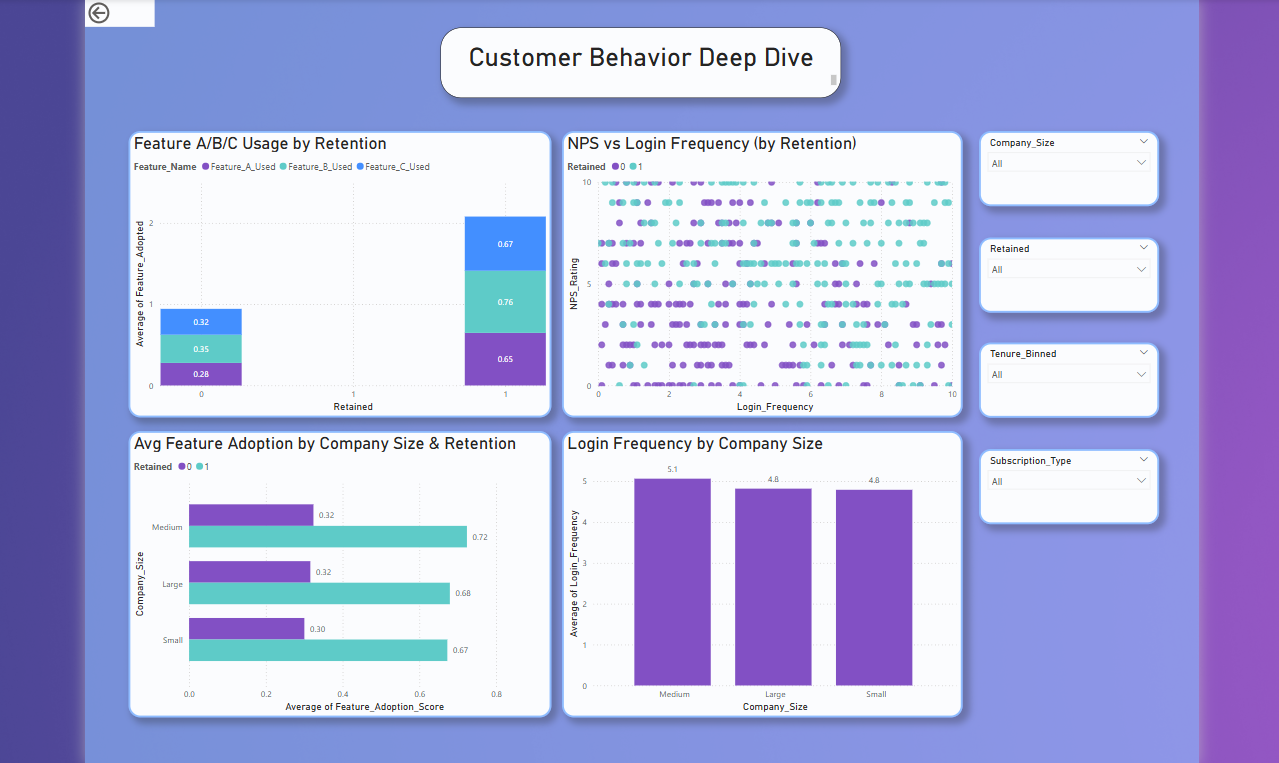

The page's visual inventory and layout, read from the dashboard file:
{"tool":"powerbi","page":{"name":"Page 2","canvas":[1600,1100],"ordinal":1},"visuals":[{"type":"clusteredBarChart","title":"Avg Feature Adoption by Company Size & Retention","fields":{"Category":["Feature_Usage_Retention_Dataset.Company_Size"],"Series":["Feature_Usage_Retention_Dataset.Retained"],"Y":["Avg(Feature_Usage_Retention_Dataset.Feature_Adoption_Score)"]},"box":[62.5,620.4,607.5,411.4],"z":0},{"type":"columnChart","title":" Feature A/B/C Usage by Retention","fields":{"Y":["Avg(Feature_Usage_Retention_Dataset.Feature_Adopted)"],"Category":["Feature_Usage_Retention_Dataset.Retained"],"Series":["Feature_Usage_Retention_Dataset.Feature_Name"]},"box":[62.5,189.6,607.5,411.4],"z":1000},{"type":"scatterChart","title":"NPS vs Login Frequency (by Retention)","fields":{"X":["Feature_Usage_Retention_Dataset.Login_Frequency"],"Y":["Feature_Usage_Retention_Dataset.NPS_Rating"],"Series":["Feature_Usage_Retention_Dataset.Retained"]},"box":[685,189.6,575.1,411.4],"z":2000},{"type":"clusteredColumnChart","title":"Login Frequency by Company Size","fields":{"Category":["Feature_Usage_Retention_Dataset.Company_Size"],"Y":["Avg(Feature_Usage_Retention_Dataset.Login_Frequency)"]},"box":[685,620.4,575.1,411.4],"z":3000},{"type":"slicer","title":"NPS vs Login Frequency (by Retention)","fields":{"Values":["Feature_Usage_Retention_Dataset.Company_Size"]},"box":[1283.8,189.6,258.5,107.7],"z":4000},{"type":"slicer","title":"NPS vs Login Frequency (by Retention)","fields":{"Values":["Feature_Usage_Retention_Dataset.Retained"]},"box":[1283.8,342.5,258.5,107.7],"z":5000},{"type":"slicer","title":"NPS vs Login Frequency (by Retention)","fields":{"Values":["Feature_Usage_Retention_Dataset.Tenure_Binned"]},"box":[1283.8,493.3,258.5,107.7],"z":6000},{"type":"actionButton","box":[0,0,100,40],"z":7000},{"type":"slicer","title":"NPS vs Login Frequency (by Retention)","fields":{"Values":["Feature_Usage_Retention_Dataset.Subscription_Type"]},"box":[1283.8,646.2,258.5,107.7],"z":8000},{"type":"textbox","title":"Customer Behavior Deep Dive","box":[510.5,40.9,575.1,101.2],"z":9000}]}

Visuals, with their boxes on the page's 1600x1100 design canvas (x1, y1, x2, y2). These are canvas units, not pixel positions in the 1279x763 screenshot, which may show the page scaled, cropped or inside an application window:
"Avg Feature Adoption by Company Size & Retention" clusteredBarChart: [left=62, top=620, right=670, bottom=1032]
" Feature A/B/C Usage by Retention" columnChart: [left=62, top=190, right=670, bottom=601]
"NPS vs Login Frequency (by Retention)" scatterChart: [left=685, top=190, right=1260, bottom=601]
"Login Frequency by Company Size" clusteredColumnChart: [left=685, top=620, right=1260, bottom=1032]
"NPS vs Login Frequency (by Retention)" slicer: [left=1284, top=190, right=1542, bottom=297]
"NPS vs Login Frequency (by Retention)" slicer: [left=1284, top=342, right=1542, bottom=450]
"NPS vs Login Frequency (by Retention)" slicer: [left=1284, top=493, right=1542, bottom=601]
actionButton: [left=0, top=0, right=100, bottom=40]
"NPS vs Login Frequency (by Retention)" slicer: [left=1284, top=646, right=1542, bottom=754]
"Customer Behavior Deep Dive" textbox: [left=510, top=41, right=1086, bottom=142]
